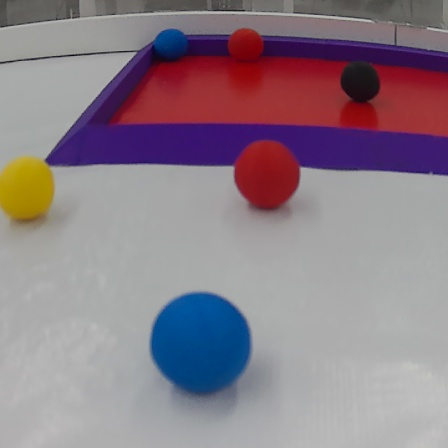black: (337, 60, 383, 106)
blue: (144, 292, 255, 399), (151, 28, 188, 65)
red: (236, 136, 302, 219), (225, 30, 267, 66)
red_aim: (35, 28, 448, 172)
yellow: (2, 153, 55, 226)
